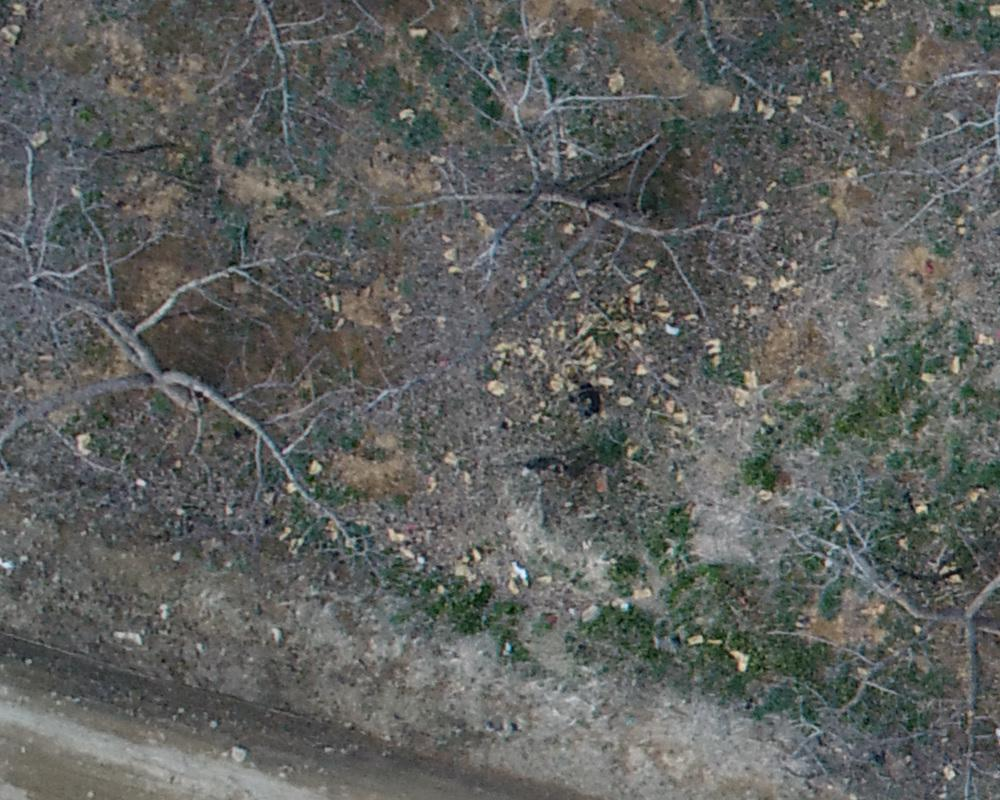apple: (14, 150, 372, 542), (411, 33, 749, 327), (801, 457, 990, 790)
